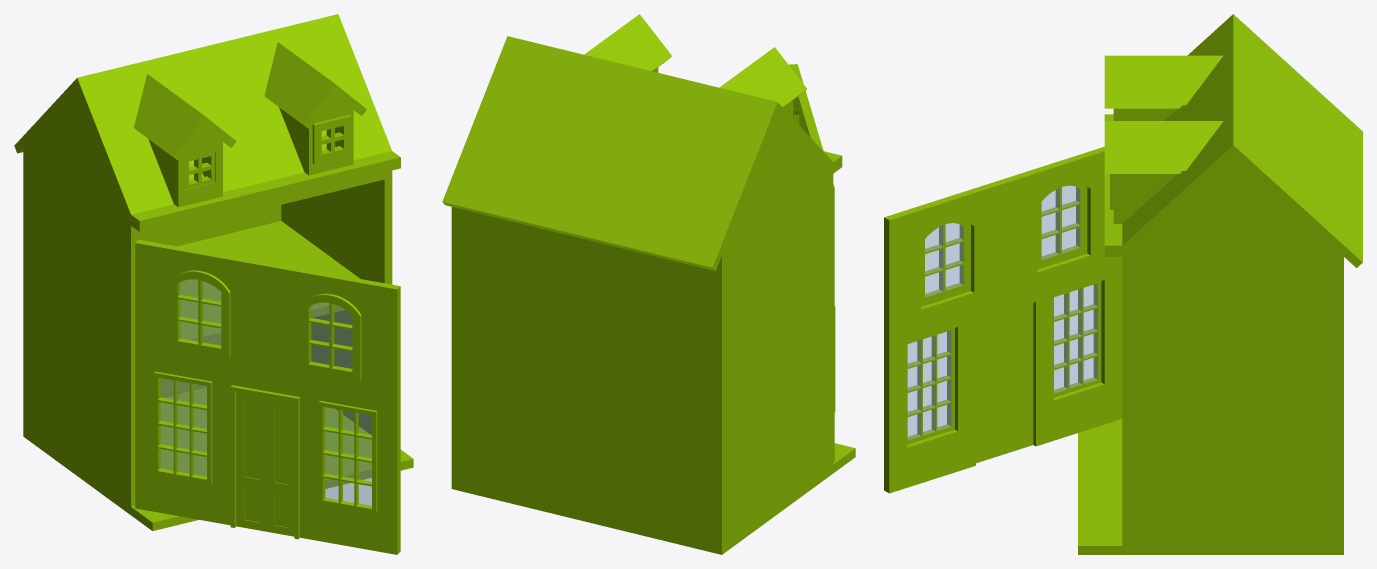
3 views of the same model, side by side, from view 1: azimuth 30°, elevation 25°; view 2: azimuth 150°, elevation 25°; view 3: azimuth 270°, elevation 25° (orthographic). The views are drawn at different scales.
Parts seen in each view (by area): view 1: 70522, 70671, 70678, 70521, 70674, 70672, 70673, 70520, 70519, 70679, 70518, 70517 (+13 smaller); view 2: 70675, 70677, 70671, 70672, 70678, 70674, 70697, 70693, 70522, 70698, 70694; view 3: 70674, 70522, 70677, 70521, 70678, 70672, 70698, 70694, 70519, 70520, 70518, 70517 (+3 smaller).
Boxes of the visible parts, left/top/right/bottom form: 70522: left=135, top=239, right=400, bottom=554; 70671: left=23, top=89, right=138, bottom=506; 70678: left=74, top=14, right=391, bottom=224; 70521: left=230, top=385, right=299, bottom=539; 70674: left=281, top=170, right=392, bottom=434; 70672: left=23, top=387, right=413, bottom=531; 70673: left=177, top=221, right=359, bottom=343; 70520: left=318, top=400, right=377, bottom=513; 70519: left=154, top=371, right=212, bottom=484; 70679: left=131, top=151, right=400, bottom=231; 70518: left=169, top=270, right=230, bottom=357; 70517: left=300, top=293, right=361, bottom=381; 70675: left=459, top=209, right=714, bottom=543; 70677: left=442, top=44, right=777, bottom=270; 70671: left=714, top=114, right=833, bottom=545; 70672: left=451, top=443, right=855, bottom=554; 70678: left=504, top=36, right=833, bottom=172; 70674: left=451, top=207, right=459, bottom=481; 70697: left=731, top=54, right=807, bottom=107; 70693: left=595, top=21, right=671, bottom=71; 70522: left=789, top=64, right=834, bottom=462; 70698: left=719, top=47, right=779, bottom=90; 70694: left=584, top=14, right=644, bottom=57; 70674: left=1122, top=156, right=1343, bottom=545; 70522: left=884, top=146, right=1122, bottom=493; 70677: left=1233, top=20, right=1362, bottom=267; 70521: left=976, top=303, right=1033, bottom=463; 70678: left=1122, top=14, right=1239, bottom=256; 70672: left=1078, top=419, right=1343, bottom=554; 70698: left=1104, top=55, right=1222, bottom=108; 70694: left=1104, top=121, right=1223, bottom=173; 70519: left=1053, top=281, right=1101, bottom=397; 70520: left=907, top=328, right=954, bottom=444; 70518: left=1037, top=179, right=1087, bottom=269; 70517: left=921, top=217, right=970, bottom=306.
Bounding box in the file's own units: 0.35 × 0.5101 × 0.5401.
